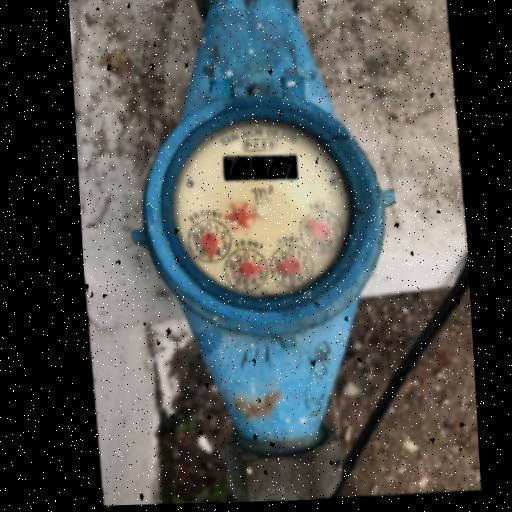1: (242, 156, 261, 180)
7: (278, 155, 299, 179), (224, 156, 244, 181), (261, 156, 279, 179)
border_water_meter_number: (222, 153, 299, 183)
